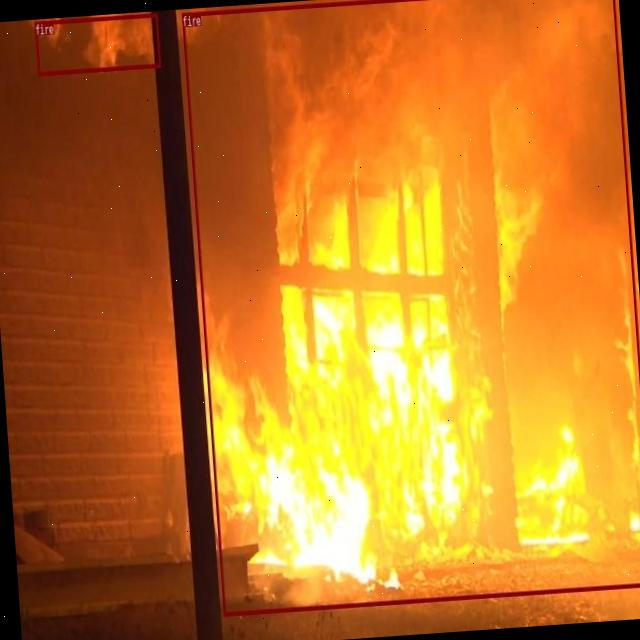fire: (181, 0, 640, 615), (34, 13, 160, 75)
